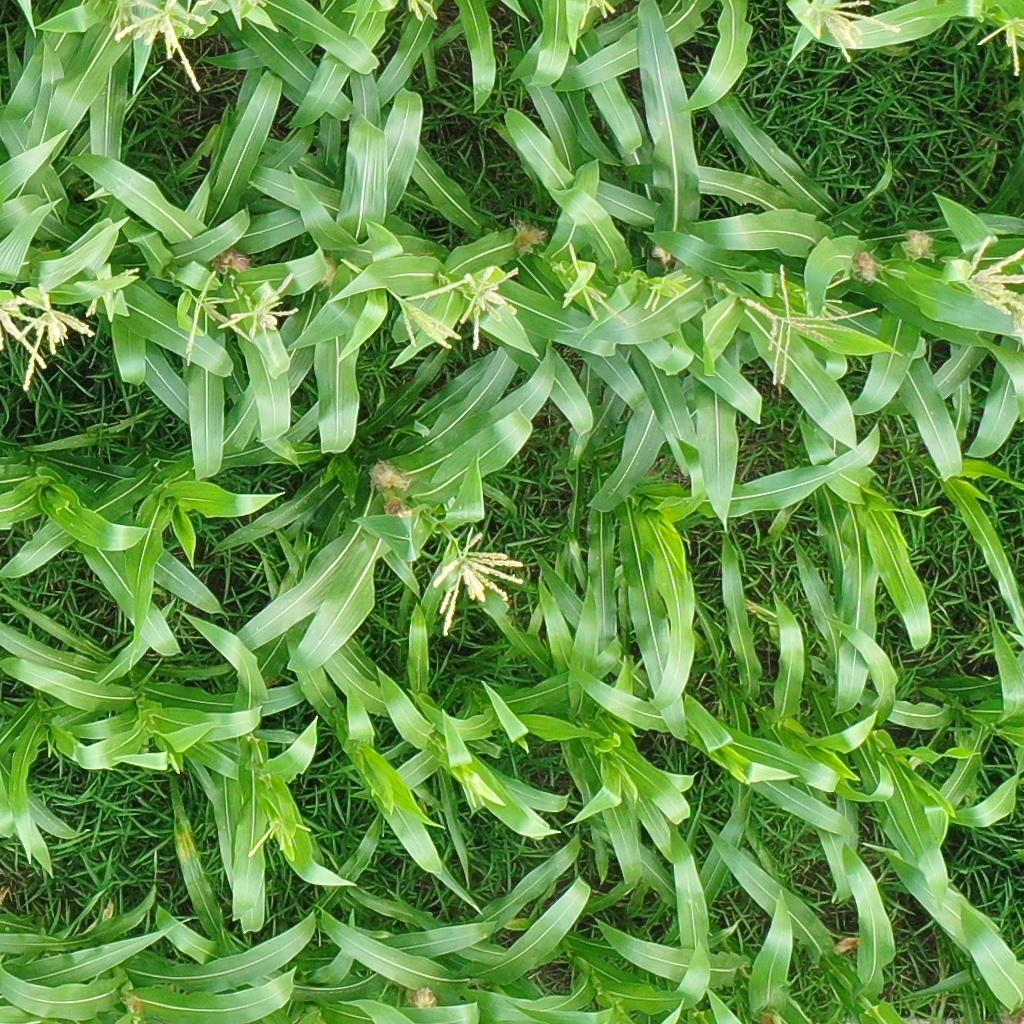Tassel: (737, 264, 877, 385), (425, 530, 526, 636), (7, 283, 93, 393), (114, 1, 208, 91), (218, 270, 300, 367), (176, 270, 250, 370), (962, 234, 1024, 335), (800, 1, 902, 61), (389, 278, 467, 352), (456, 266, 524, 349), (556, 243, 611, 319), (1, 297, 53, 365), (80, 264, 140, 320), (978, 14, 1024, 77), (246, 818, 313, 861), (798, 273, 852, 321), (636, 271, 692, 309), (458, 764, 489, 810), (575, 1, 615, 30), (406, 1, 436, 21), (164, 747, 183, 775), (228, 1, 266, 13)
